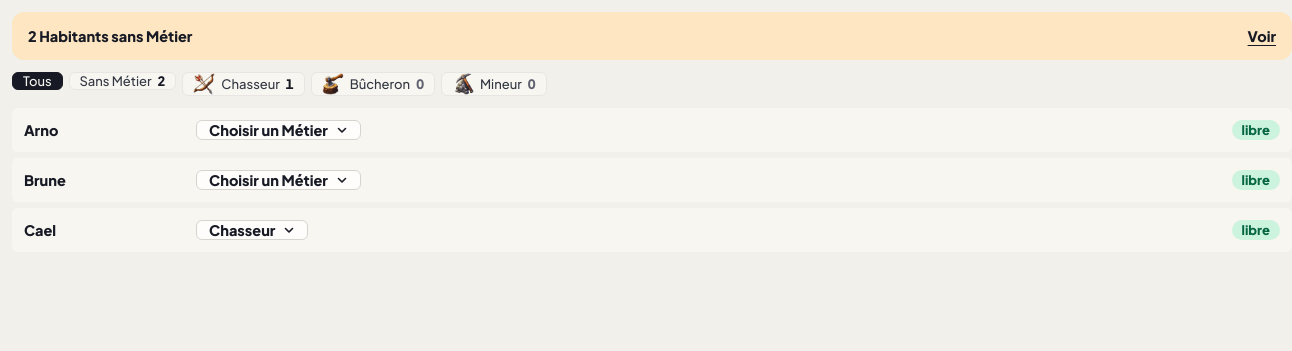
Scenario: le bandeau des Habitants sans Métier (US-0313) › baisse dès qu'un Habitant sans Métier est renvoyé depuis la liste, et disparaît avec le dernier (US-0330)
The image size is (1292, 351).
Click the button "Choisir un Métier" next to "Arno" at (278, 130), box [196,120,361,140]
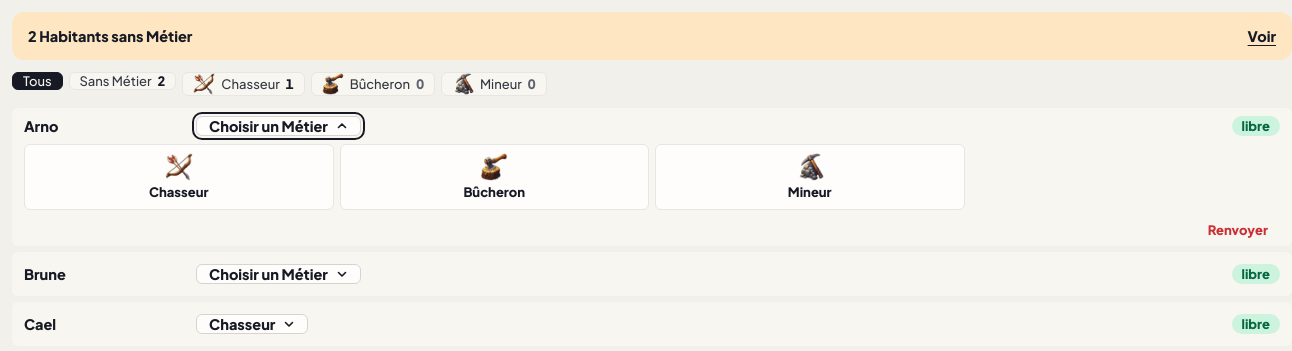
Click the button "Renvoyer" at (1238, 230), box [1196,222,1280,238]
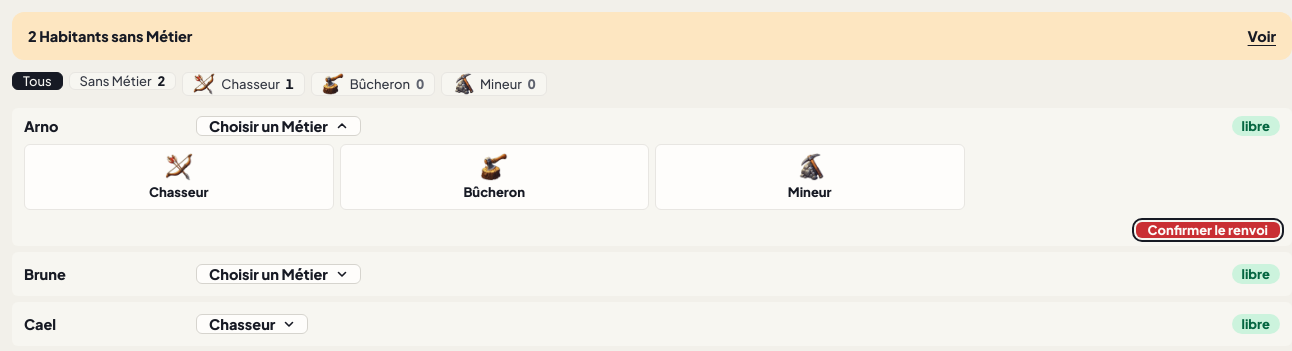
Click the button "Confirmer le renvoi" at (1208, 230), box [1136,222,1280,238]
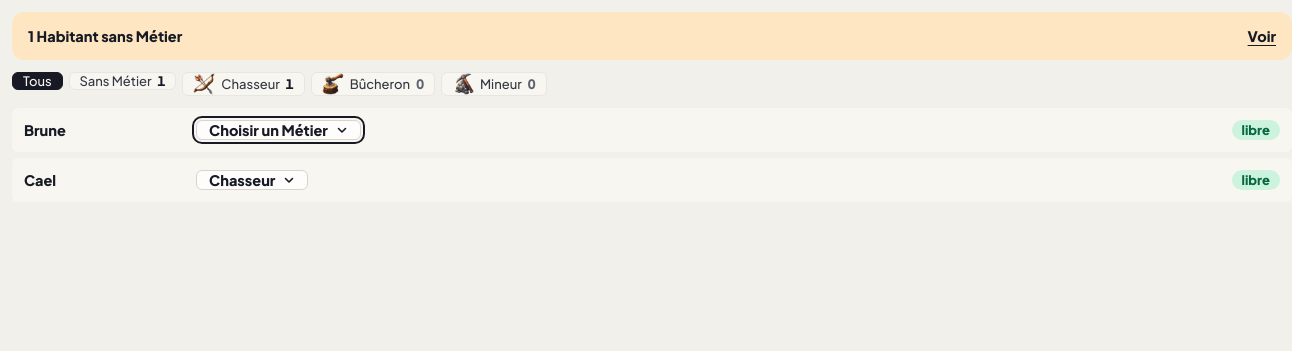
Click the button "Choisir un Métier" at (278, 130), box [196,120,361,140]
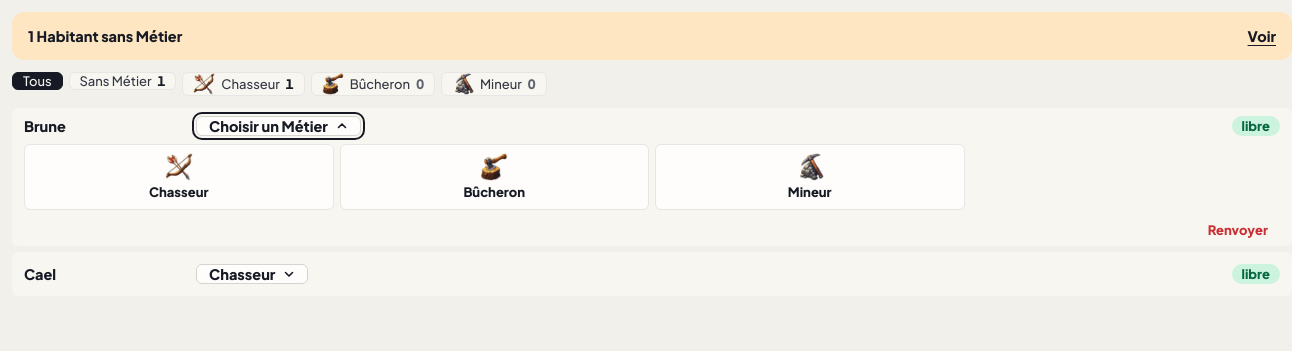
Click the button "Renvoyer" at (1238, 230), box [1196,222,1280,238]
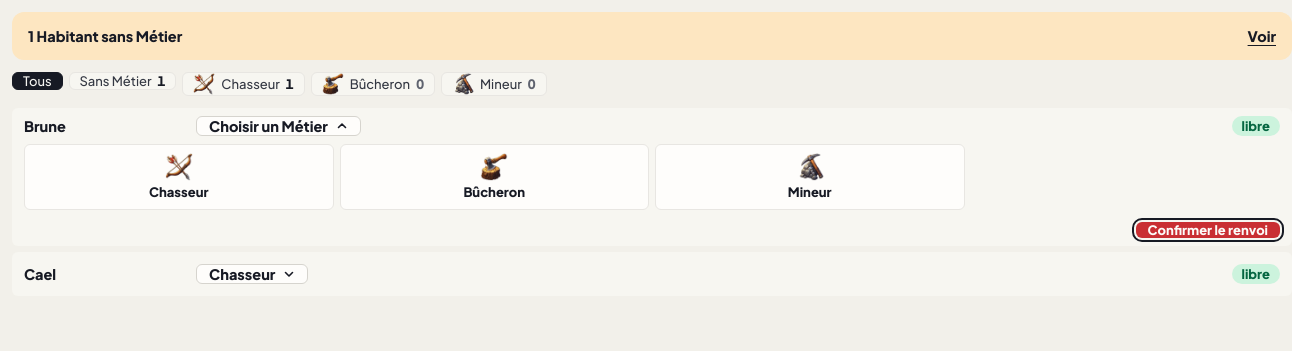
Click the button "Confirmer le renvoi" at (1208, 230), box [1136,222,1280,238]
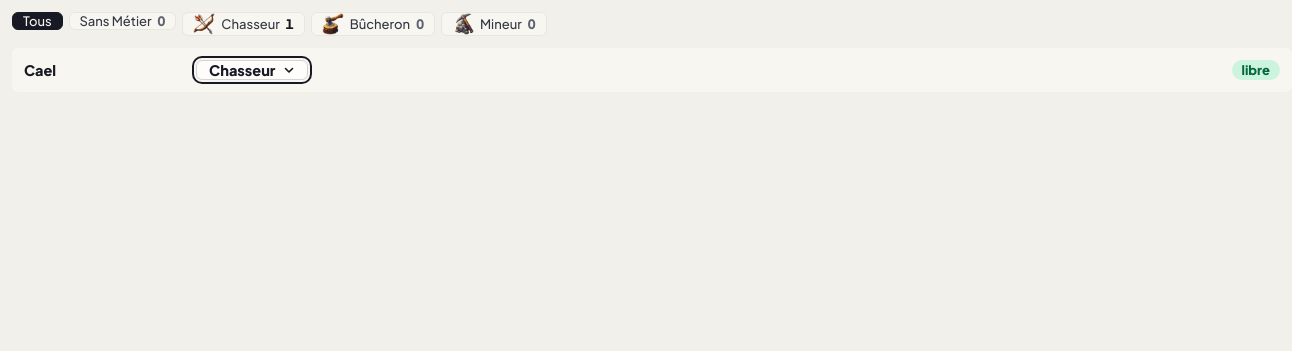
expect the link "Voir" is gone: met
